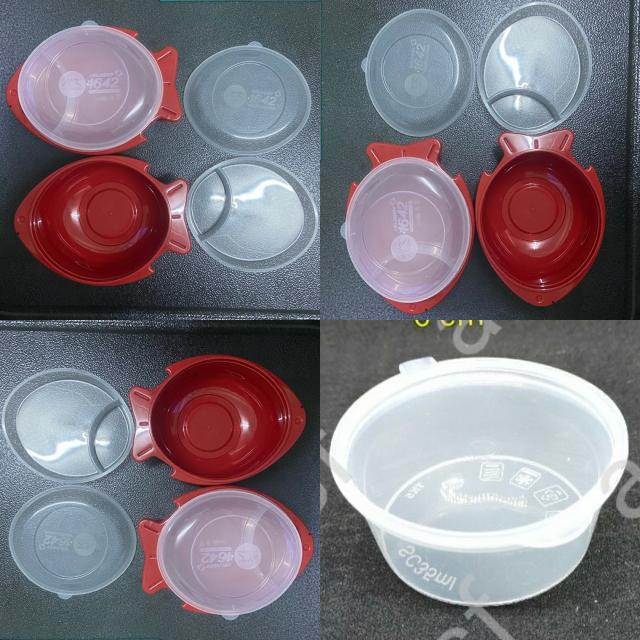Single-Use-Plastic: (330, 358, 628, 606), (6, 21, 182, 154), (139, 486, 314, 619), (475, 130, 605, 306), (129, 355, 305, 485), (344, 139, 474, 314), (15, 158, 190, 284), (186, 158, 318, 272), (2, 369, 134, 482), (478, 2, 591, 133), (184, 41, 311, 156), (361, 9, 475, 137), (9, 485, 136, 599)
